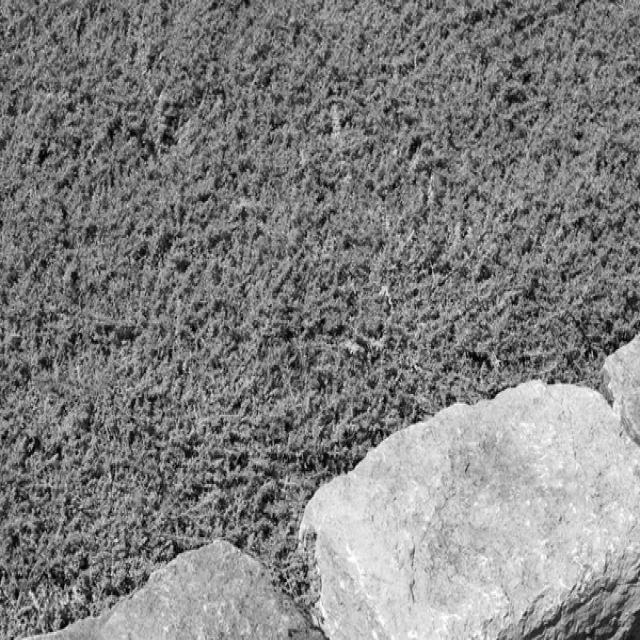Stone: (302, 381, 640, 640), (28, 542, 325, 640)
